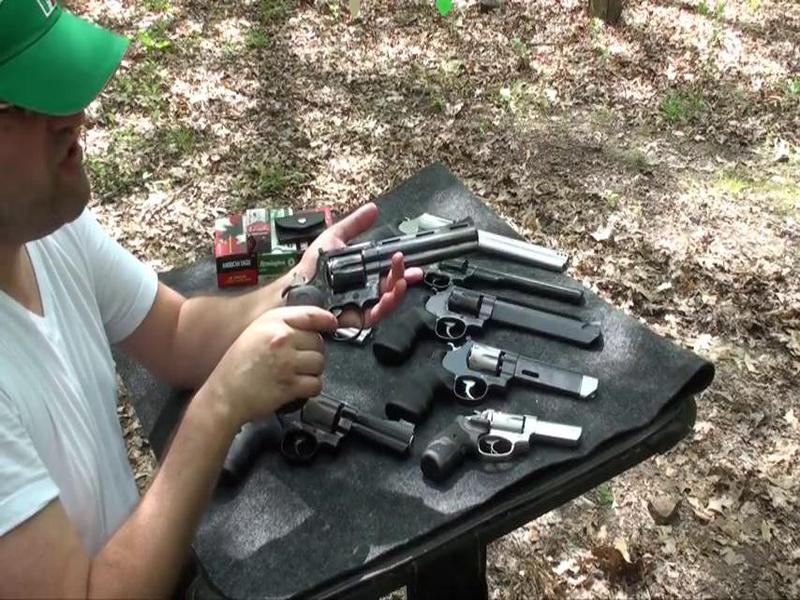Revolver: (277, 218, 496, 344)
